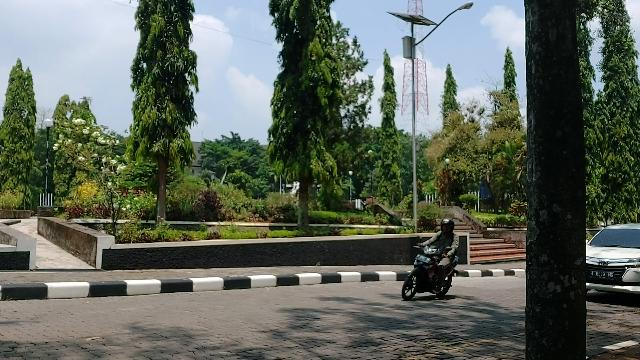helm: (442, 219, 456, 233)
motor: (403, 247, 459, 302)
